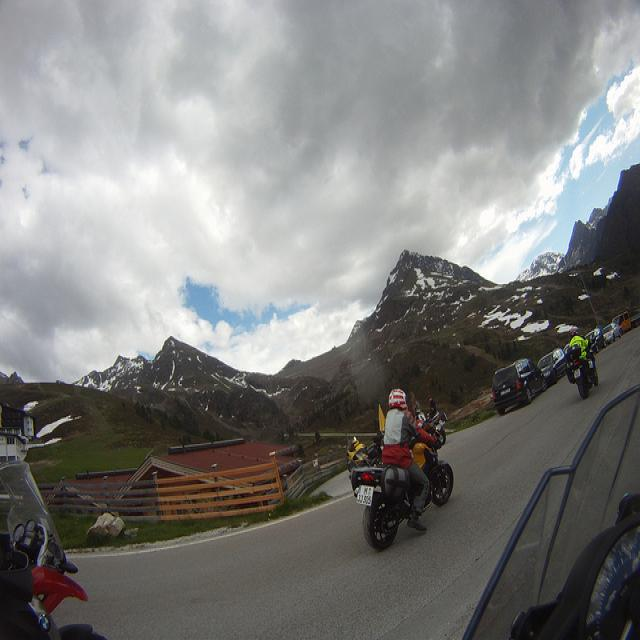motor: (0, 459, 89, 640), (350, 439, 454, 550), (564, 345, 599, 401), (431, 412, 447, 446)
